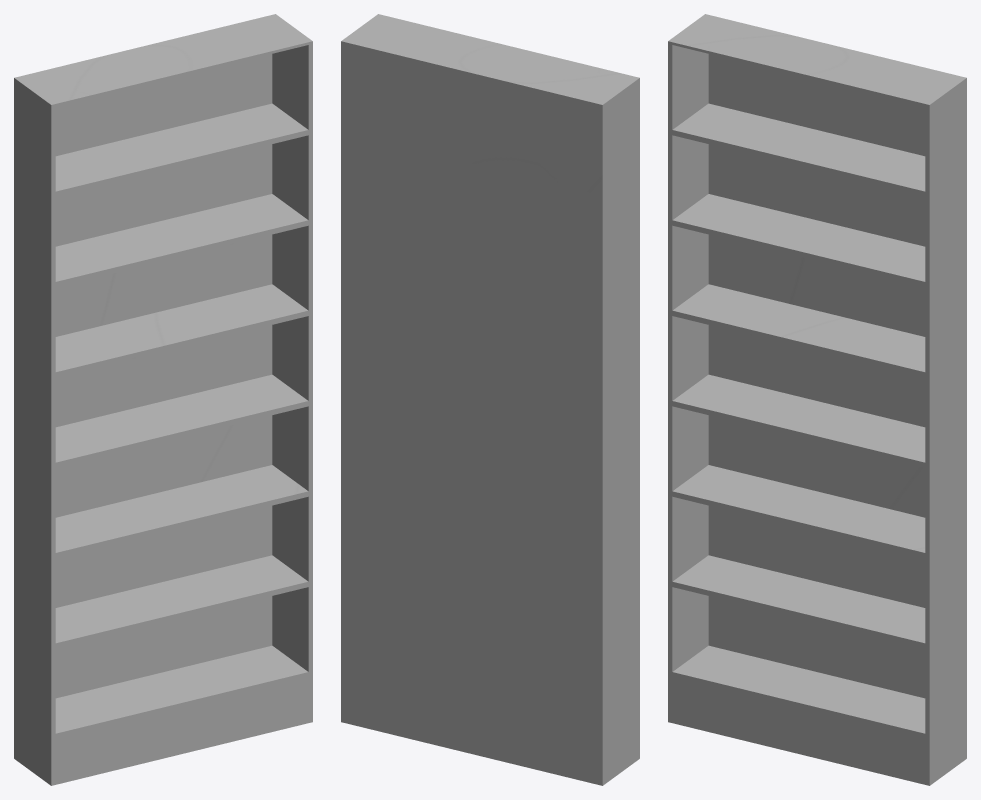
3 views of the same model, side by side, from view 1: azimuth 30°, elevation 25°; view 2: azimuth 150°, elevation 25°; view 3: azimuth 330°, elevation 25° (orthographic).
Parts seen in each view (by area): view 1: __pCube55Sh; view 2: __pCube55Sh; view 3: __pCube55Sh.
Part boxes in pixels (x1,y1,x2,y2): __pCube55Sh: [14, 14, 312, 785]; __pCube55Sh: [341, 14, 639, 785]; __pCube55Sh: [668, 14, 966, 785].
Size of the model in its own units: 107 by 267 by 26.45.
